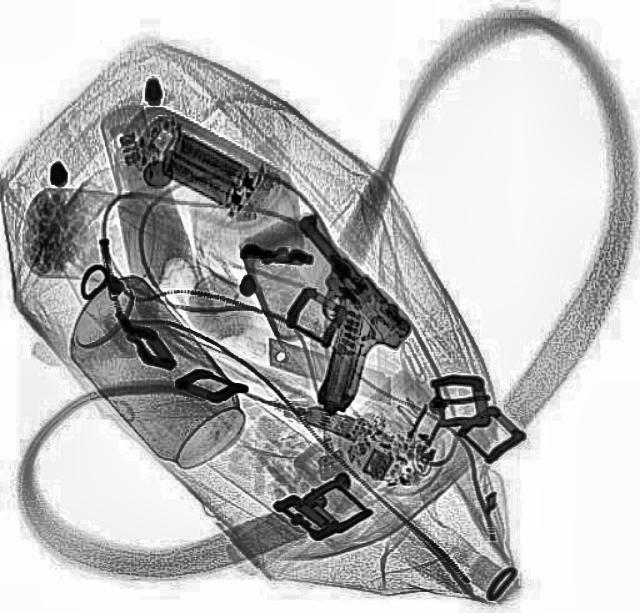Gun: (212, 207, 434, 418)
